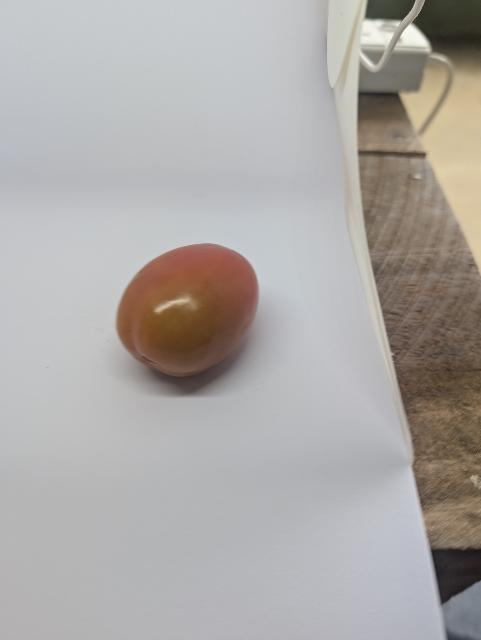turning: (115, 239, 260, 383)
